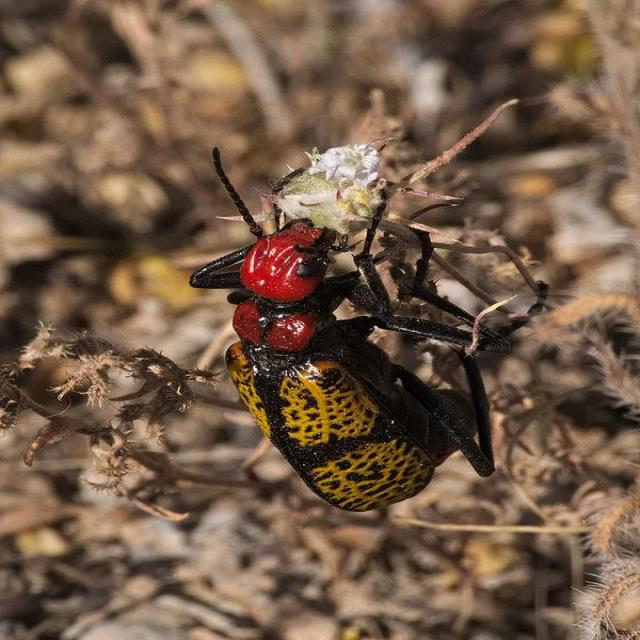BlisterBeetle-Adult-: (182, 136, 513, 513)
